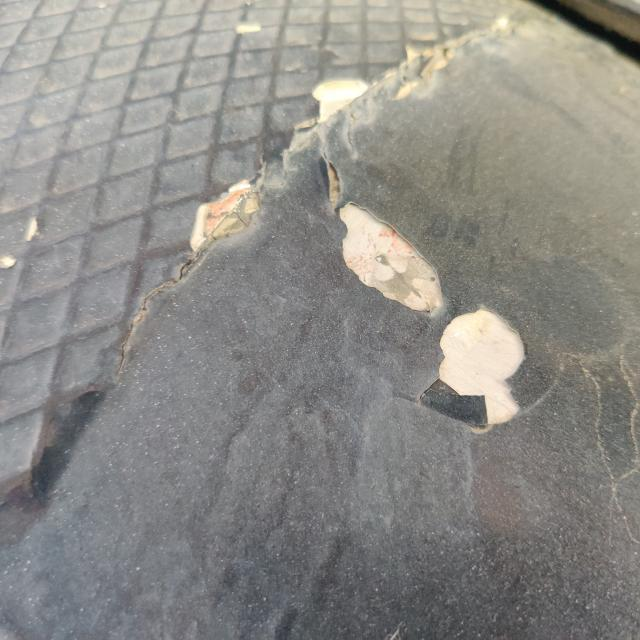Paint-off: (421, 309, 526, 430), (340, 202, 445, 316), (190, 179, 260, 254), (313, 78, 369, 122)
